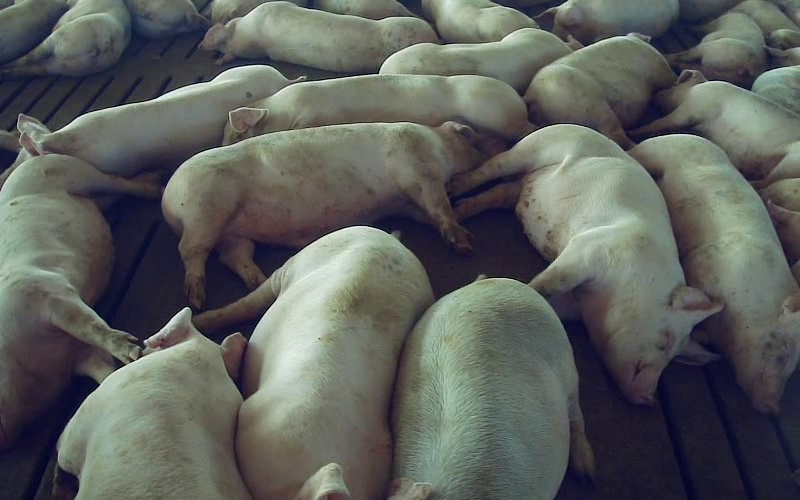pig: (448, 126, 720, 403), (195, 226, 433, 499), (162, 121, 502, 308), (630, 134, 799, 414), (0, 154, 157, 449), (390, 278, 593, 499), (58, 308, 248, 499), (0, 66, 291, 185), (223, 74, 534, 143), (629, 69, 799, 188), (524, 33, 675, 149), (199, 2, 437, 73), (379, 28, 582, 93), (667, 12, 766, 88), (537, 0, 678, 44), (422, 0, 538, 42)
